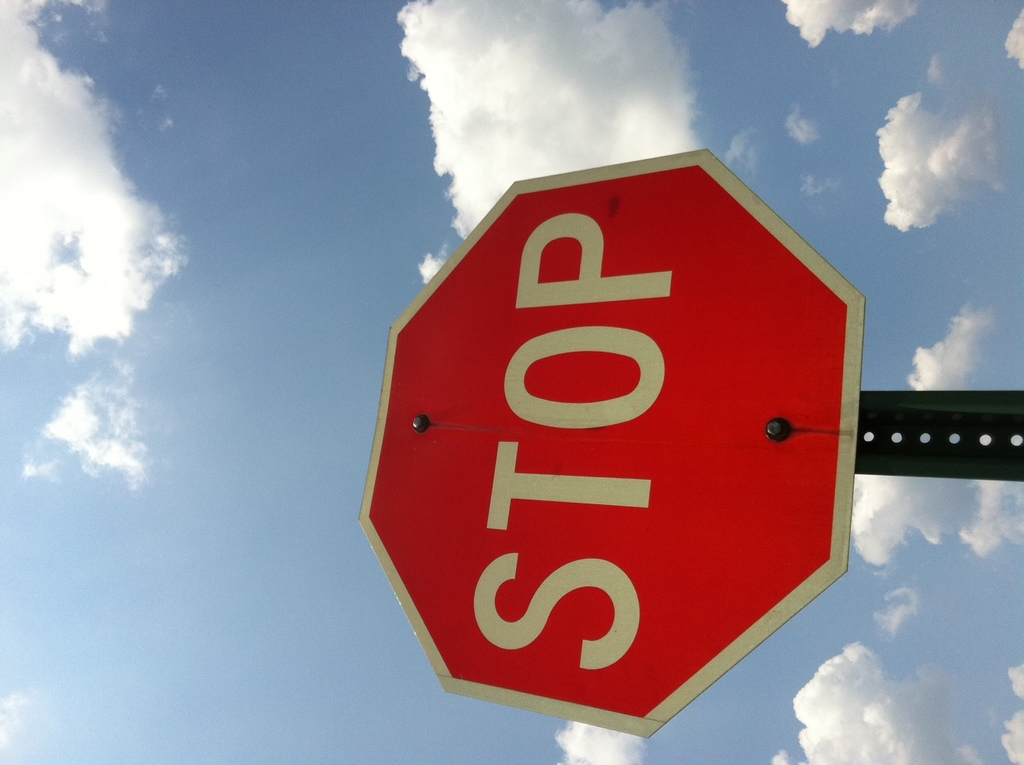stop_sign: (360, 155, 865, 738)
